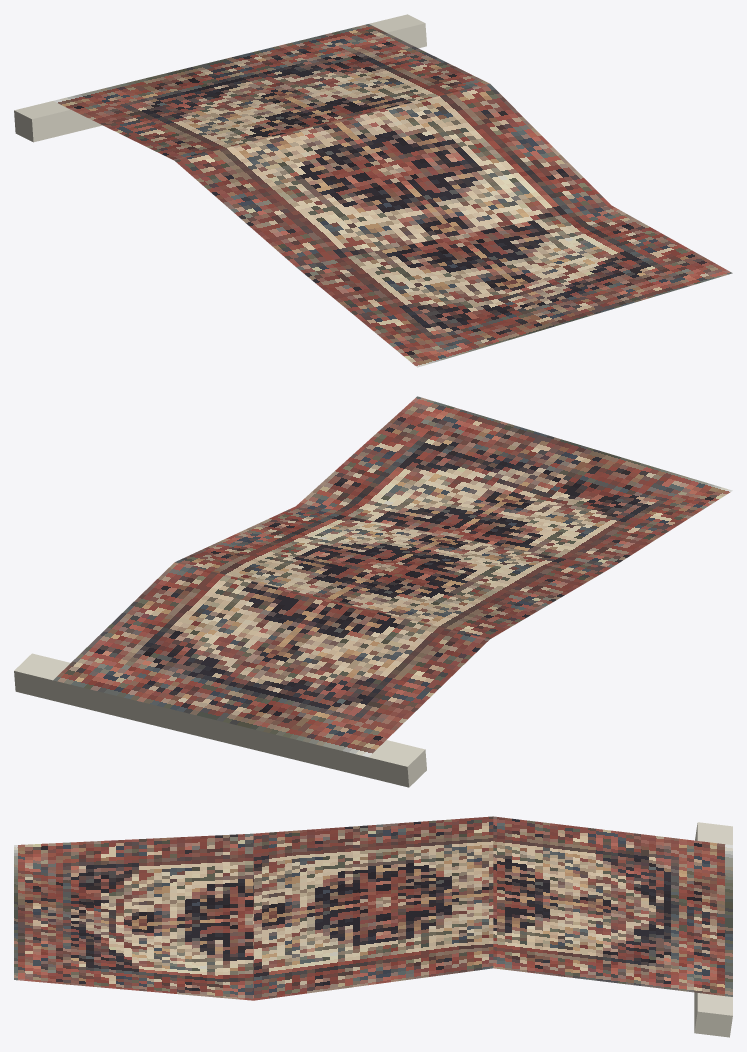
File: Mesh_BG_tenture_1.fbx
The picture shows the model from 3 angles, top to bottom: view 1: azimuth 30°, elevation 25°; view 2: azimuth 150°, elevation 25°; view 3: azimuth 270°, elevation 25°; orthographic projection.
Parts seen in each view (by area): view 1: Mesh_BG_tenture_1; view 2: Mesh_BG_tenture_1; view 3: Mesh_BG_tenture_1.
Boxes of the visible parts, x1,y1,x2,y2 form: Mesh_BG_tenture_1: (14, 14, 732, 367); Mesh_BG_tenture_1: (14, 396, 732, 787); Mesh_BG_tenture_1: (14, 816, 732, 1037).
Bounding box in the file's own units: 249 × 30.94 × 400.
